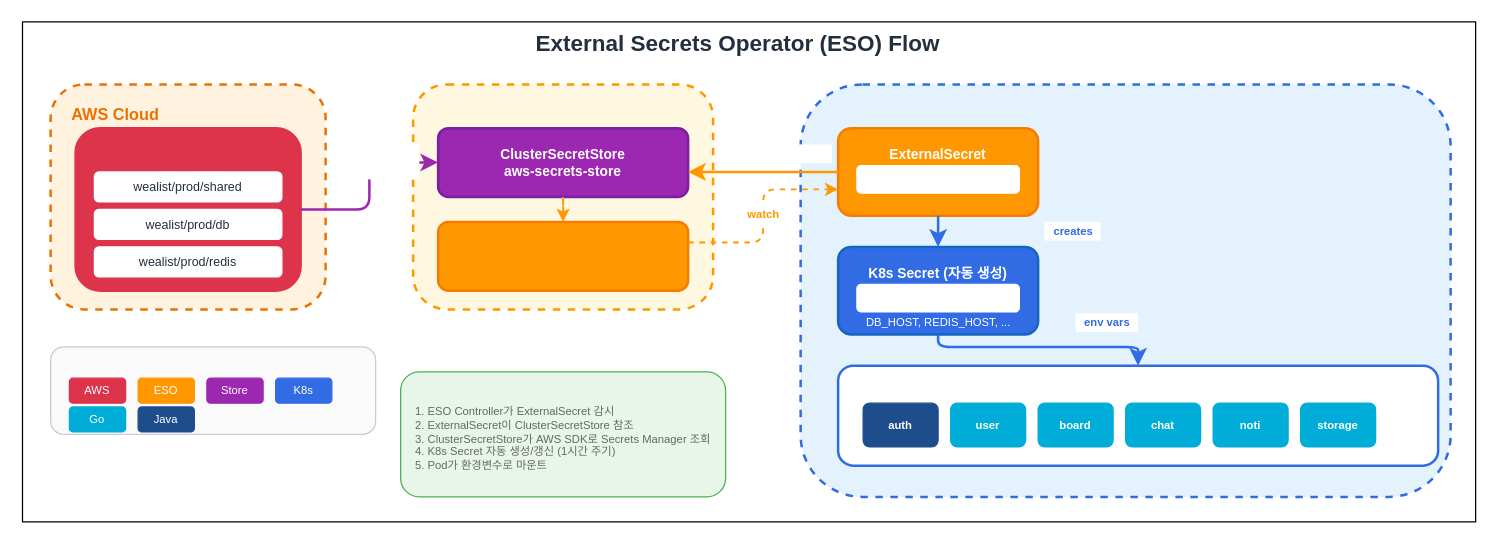
The diagram is 1498 pixels wide and 544 high, and some of its shapes have lost their labels. The box of each missing label's shape, as (x1, y1, x2, y2) in pixels:
AWS SDK (Pod Identity): (338, 144, 419, 179)
ESO Controller (watches ExternalSecret): (436, 220, 689, 291)
external-secrets namespace: (411, 82, 714, 310)
Flow Summary: (399, 371, 726, 497)
Legend: (49, 346, 376, 434)
refreshInterval: 1h: (875, 194, 1000, 212)
Secrets Manager: (74, 126, 301, 291)
secretStoreRef: (738, 144, 831, 162)
Service Pods (envFrom: secretRef): (836, 364, 1439, 466)
shared-secrets: (856, 164, 1019, 193)
wealist-prod namespace: (799, 82, 1451, 498)
wealist-shared-secret: (856, 283, 1019, 312)
